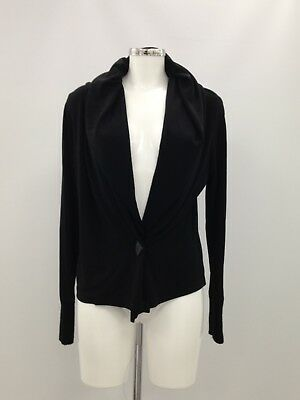F_W_suit jacket: (57, 54, 236, 323)
